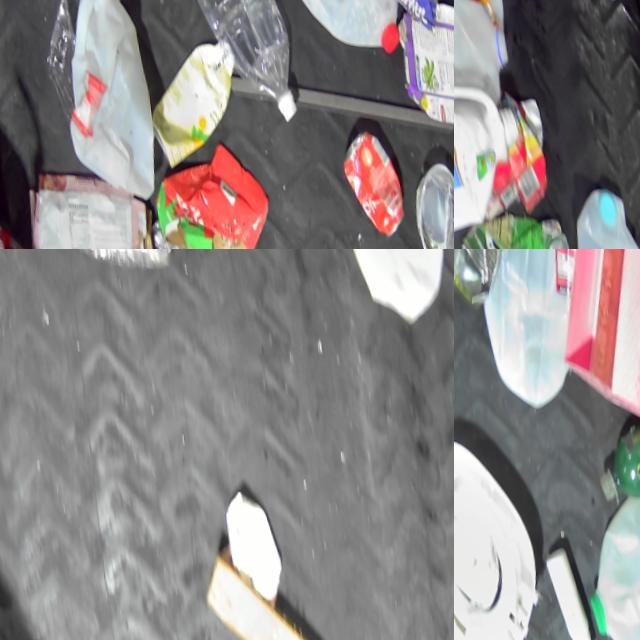can: (334, 121, 403, 239)
milk_jug: (50, 0, 153, 205), (464, 249, 594, 406), (454, 58, 528, 241), (563, 467, 640, 640), (338, 249, 454, 318), (559, 158, 640, 249), (269, 0, 399, 50), (454, 0, 511, 102)
plastic_bottle: (164, 0, 298, 125)
